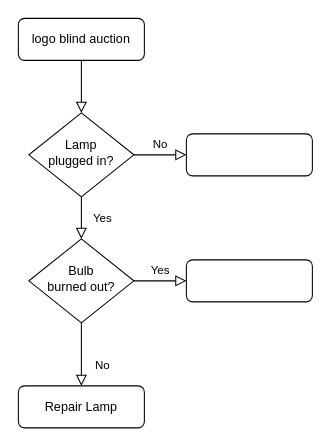
This 331x446 diagram has some shape labels left out. Each missing label, with the centre of its shape:
Plug in lamp: the point at 248,154
Replace Bulb: the point at 248,280
